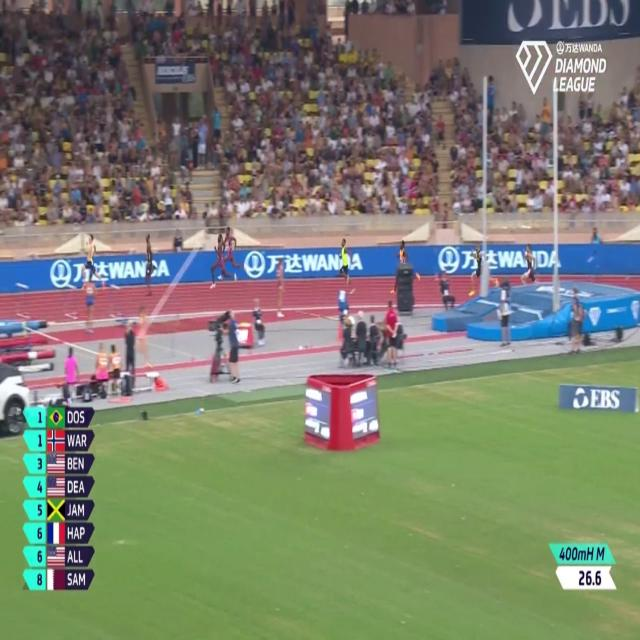athlete: (389, 234, 418, 304), (210, 229, 238, 298), (332, 230, 358, 303), (468, 239, 498, 300), (79, 225, 103, 301), (218, 220, 245, 282), (520, 234, 542, 290), (142, 229, 157, 305)
hurdle: (57, 279, 85, 329), (11, 277, 33, 327), (103, 275, 124, 325)
